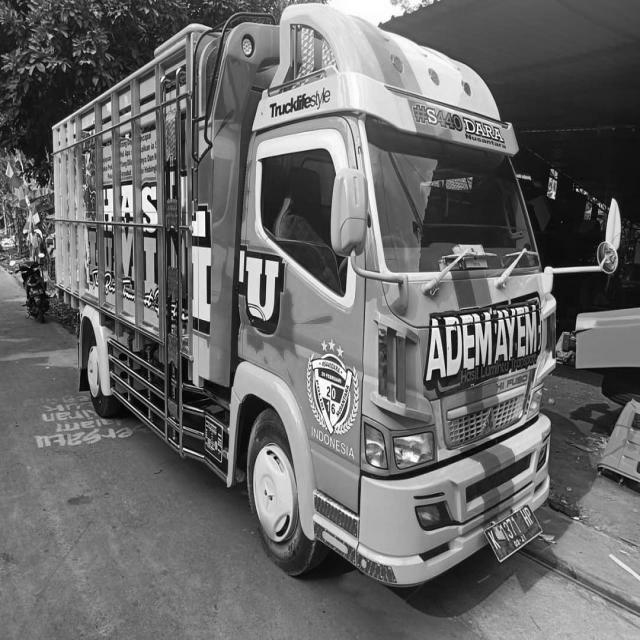truck: (211, 1, 623, 592)
